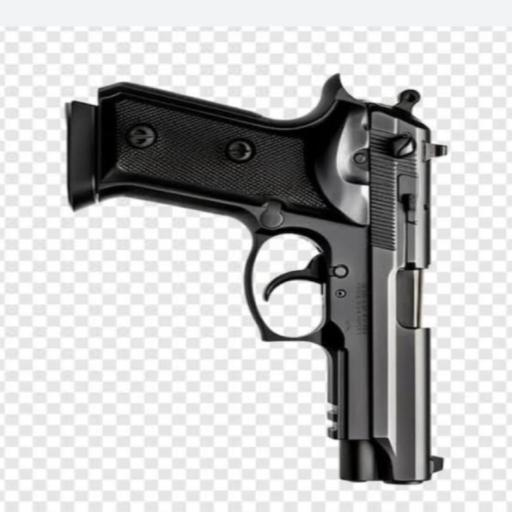Gun: (68, 75, 446, 483)
